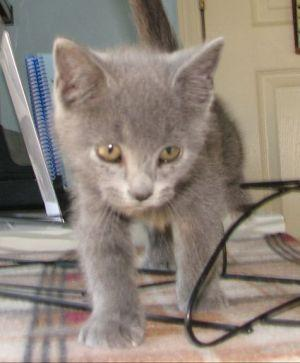rblue: (44, 23, 236, 225)
